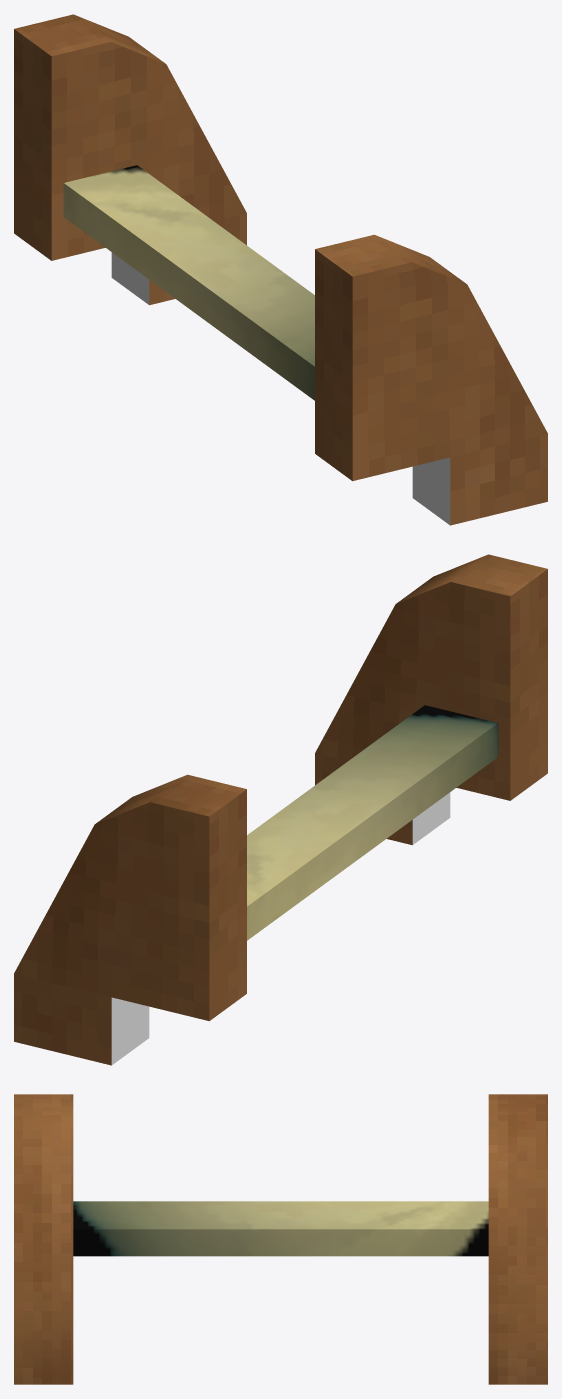
The model's file is Docks_Ladder_Top_1x1.fbx.
The picture shows the model from 3 angles, top to bottom: view 1: azimuth 30°, elevation 25°; view 2: azimuth 150°, elevation 25°; view 3: azimuth 270°, elevation 25°; orthographic projection. The views are drawn at different scales.
Visible parts, largest first — view 1: Docks_Ladder_Top_1x1; view 2: Docks_Ladder_Top_1x1; view 3: Docks_Ladder_Top_1x1.
Part boxes in pixels (x1,y1,x2,y2): Docks_Ladder_Top_1x1: (14, 14, 547, 525); Docks_Ladder_Top_1x1: (14, 554, 547, 1065); Docks_Ladder_Top_1x1: (14, 1094, 547, 1384).
Bounding box in the file's own units: 18.75 × 25 × 56.25.
